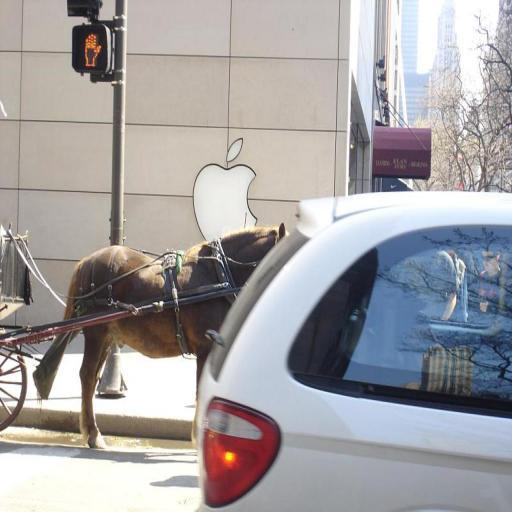horse: (30, 222, 290, 452)
